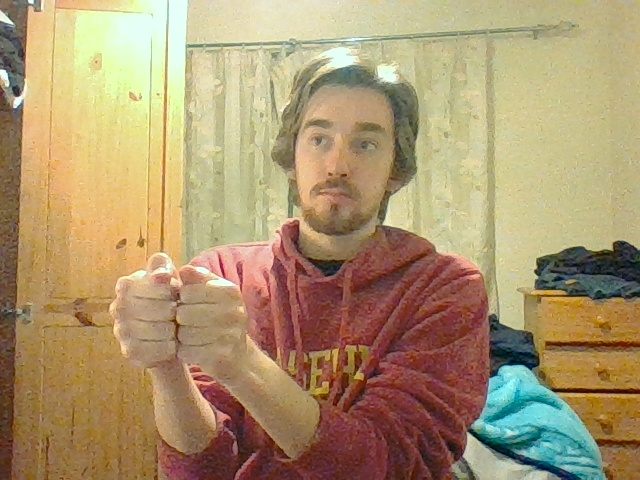brother: (108, 253, 246, 359)
